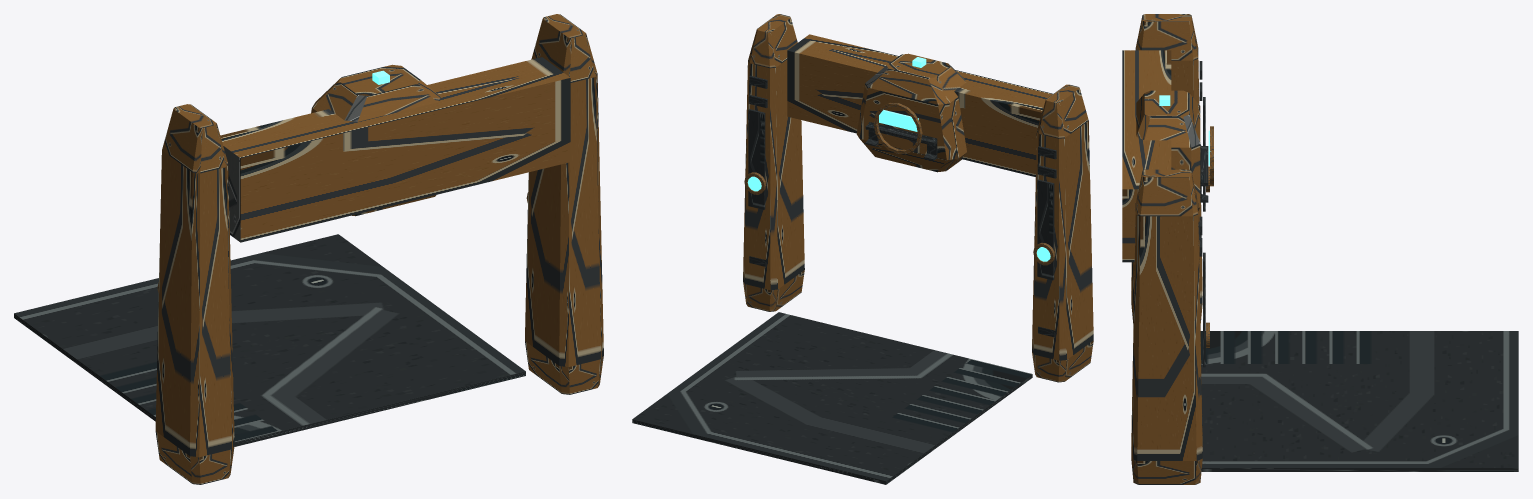
Rendered from station_command.glb.
3 renders of one model, left to right at view 1: azimuth 30°, elevation 25°; view 2: azimuth 150°, elevation 25°; view 3: azimuth 270°, elevation 25°, orthographic. The views are drawn at different scales.
Parts seen in each view (by area): view 1: STProp_station_command_Body; view 2: STProp_station_command_Body; view 3: STProp_station_command_Body.
Boxes of the visible parts, x1=… form: STProp_station_command_Body: x1=14, y1=14, x2=603, y2=484; STProp_station_command_Body: x1=632, y1=14, x2=1093, y2=484; STProp_station_command_Body: x1=1122, y1=14, x2=1518, y2=484.
Size of the model in its own units: 3.7 by 3.04 by 3.55.
5 materials, 4 textured.
